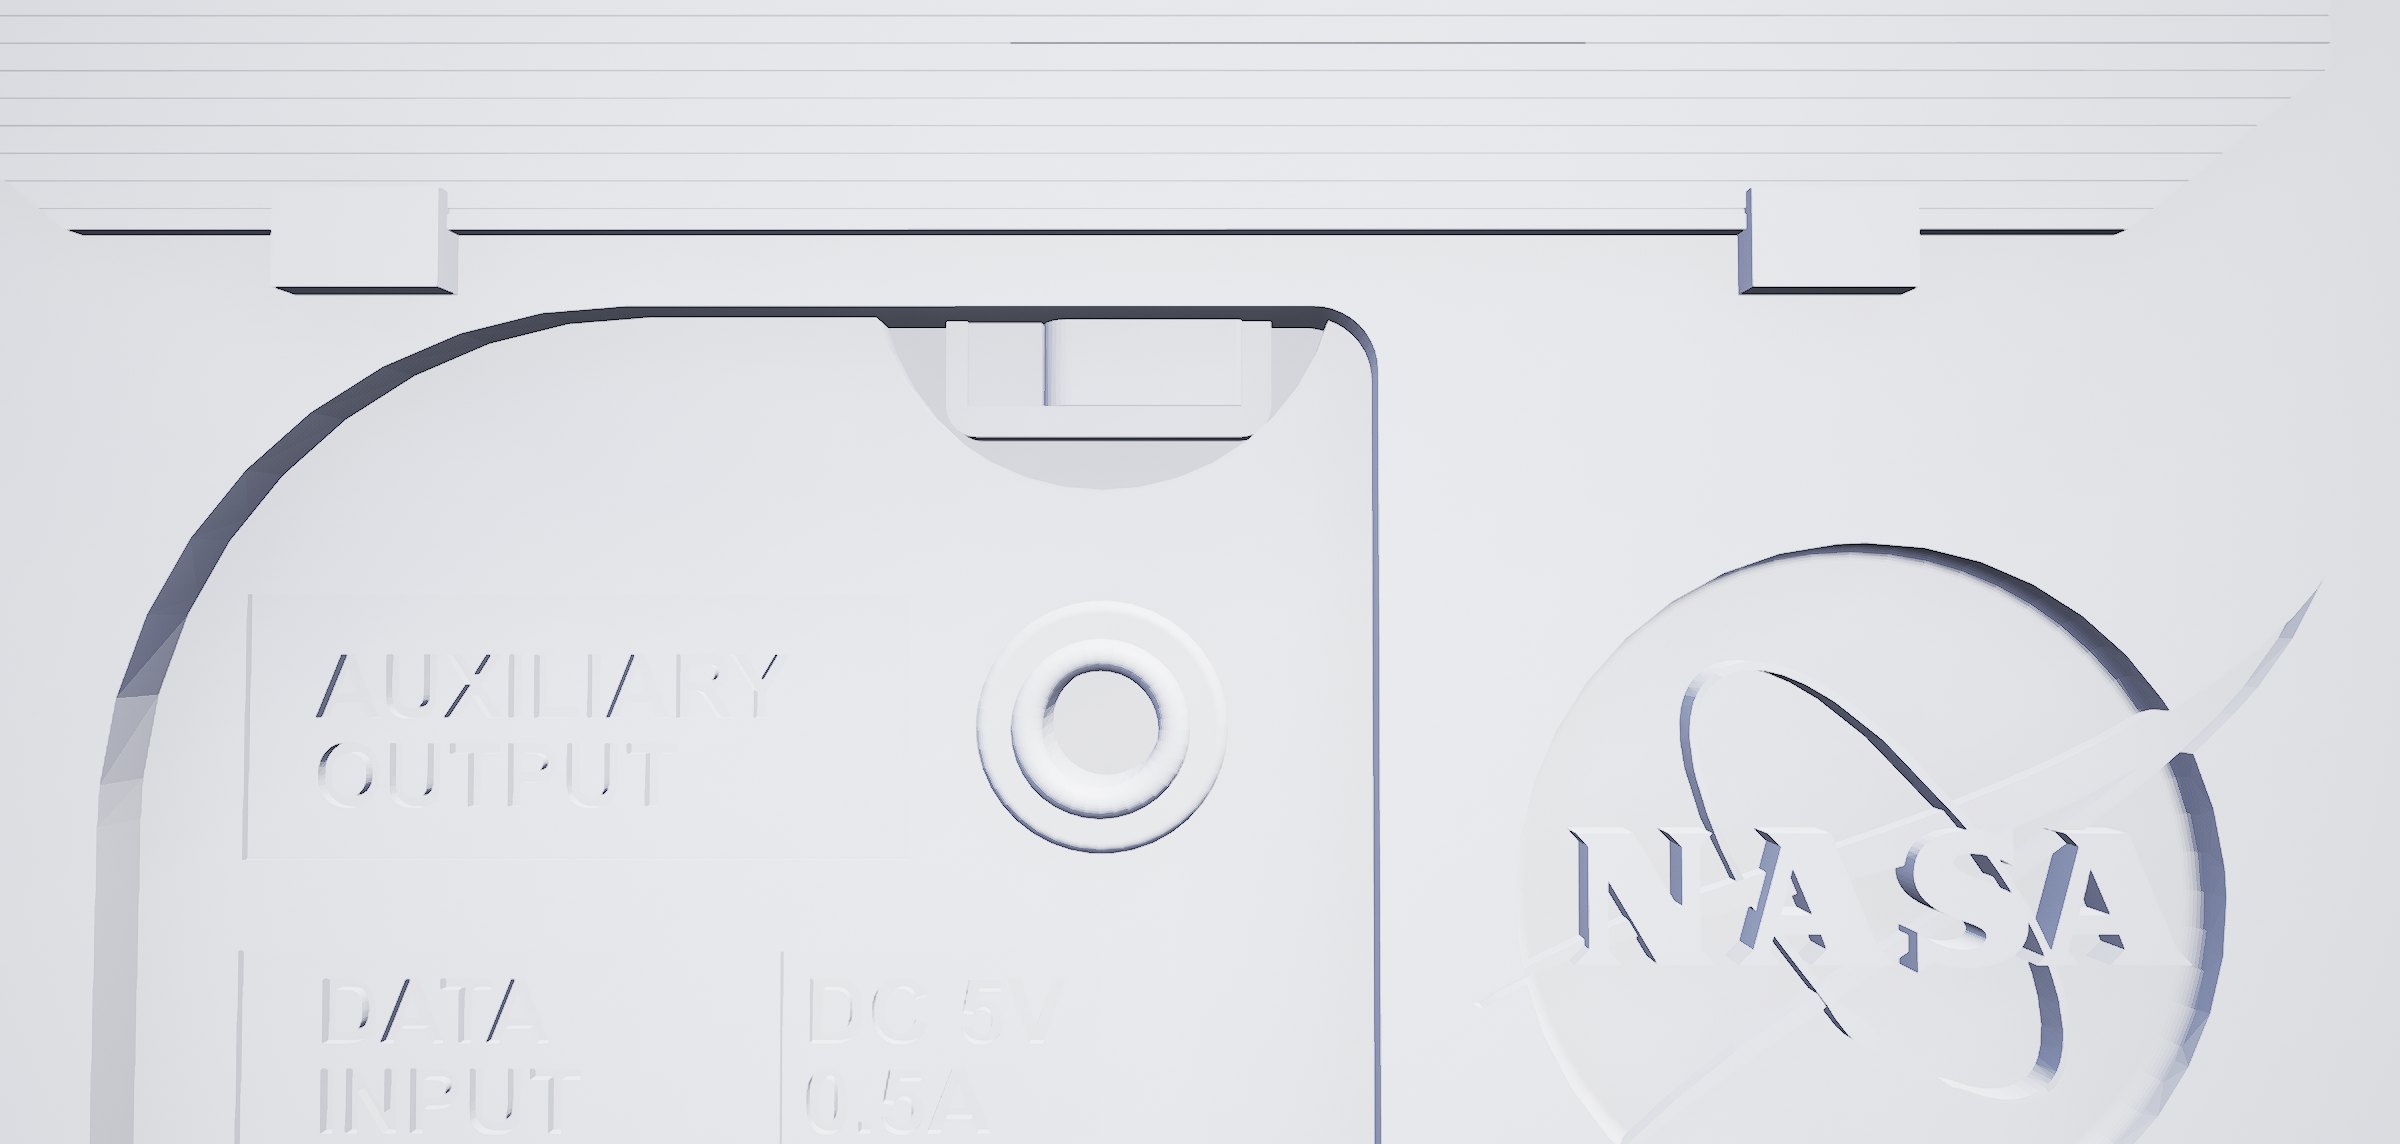aux: (954, 588, 1260, 887)
